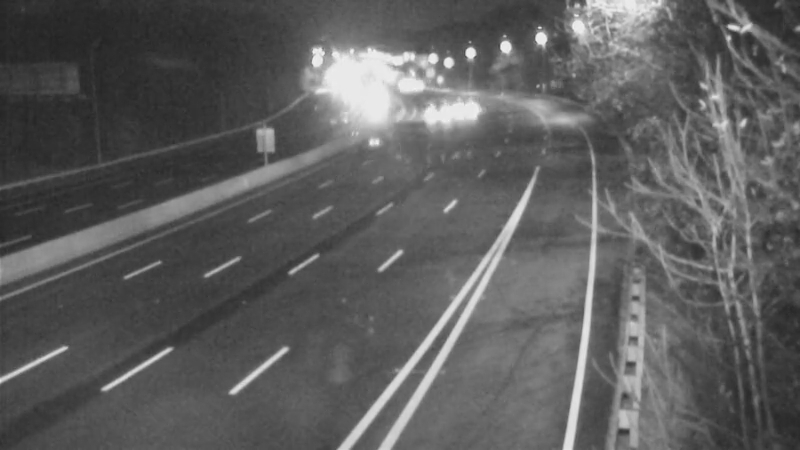vehicle: (438, 82, 488, 132), (401, 85, 451, 135)
